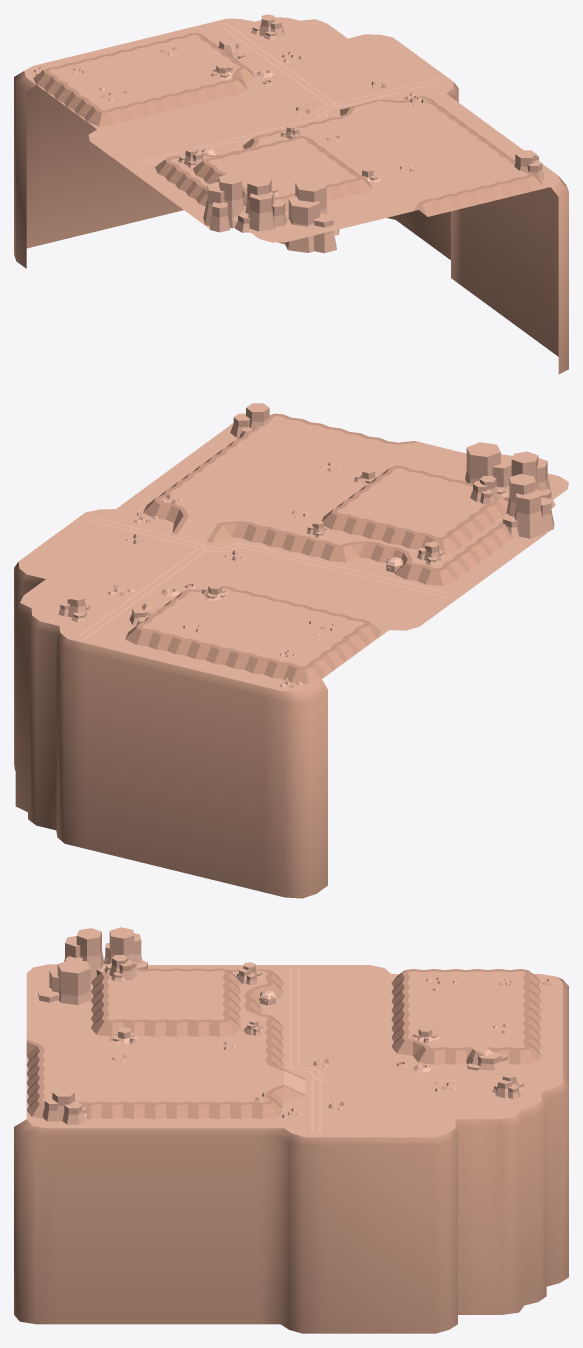
The model's file is terrain_1v4.fbx.
The picture shows the model from 3 angles, top to bottom: view 1: azimuth 30°, elevation 25°; view 2: azimuth 150°, elevation 25°; view 3: azimuth 270°, elevation 25°; orthographic projection. The views are drawn at different scales.
Parts seen in each view (by area): view 1: terrain.094; view 2: terrain.094; view 3: terrain.094.
Boxes of the visible parts, x1,y1,x2,y2 form: terrain.094: (14,14,568,374); terrain.094: (14,403,568,898); terrain.094: (14,927,568,1333).
Bounding box in the file's own units: 19.24 × 12.59 × 25.86.
